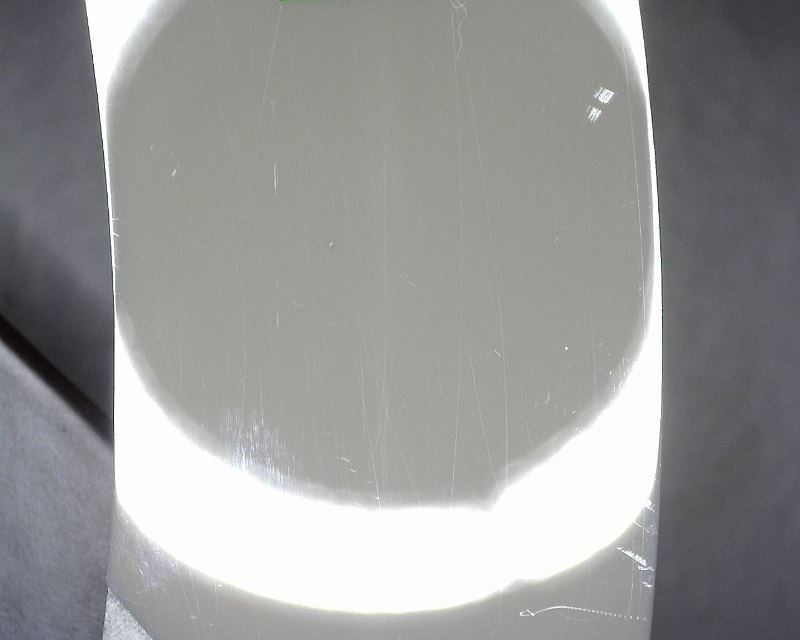scratch: (358, 347, 392, 491), (225, 403, 291, 472), (520, 602, 648, 625), (497, 293, 510, 461), (615, 542, 655, 589), (584, 82, 617, 125), (447, 1, 472, 54), (271, 161, 280, 196), (169, 167, 181, 178), (563, 342, 571, 353)
